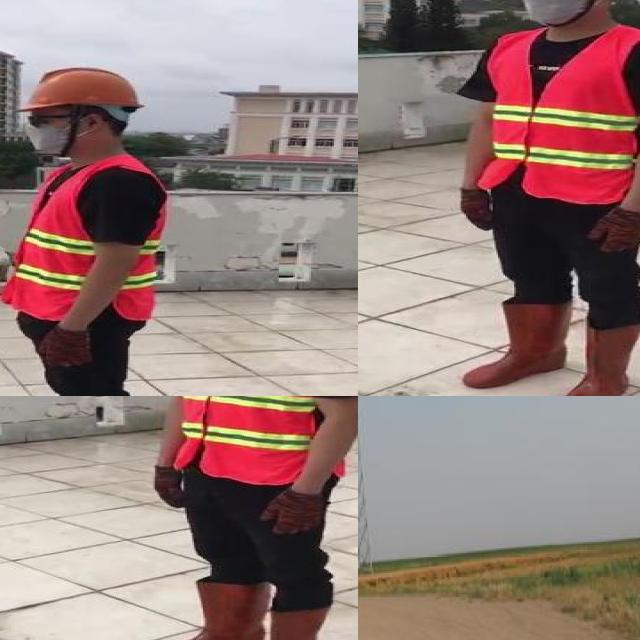boots: (464, 301, 573, 390), (153, 581, 267, 640), (554, 325, 640, 396), (233, 610, 331, 640)
face_mask: (21, 111, 87, 155), (506, 0, 588, 24)
glasses: (21, 108, 66, 130)
hand_glove: (254, 489, 324, 534), (587, 209, 640, 253), (38, 327, 92, 367), (457, 189, 500, 229), (152, 464, 186, 510)
head_helmet: (14, 64, 144, 114)
person: (451, 0, 640, 396), (0, 60, 181, 396), (138, 396, 358, 640)
vest: (480, 27, 640, 203), (5, 158, 165, 322), (178, 396, 348, 484)
